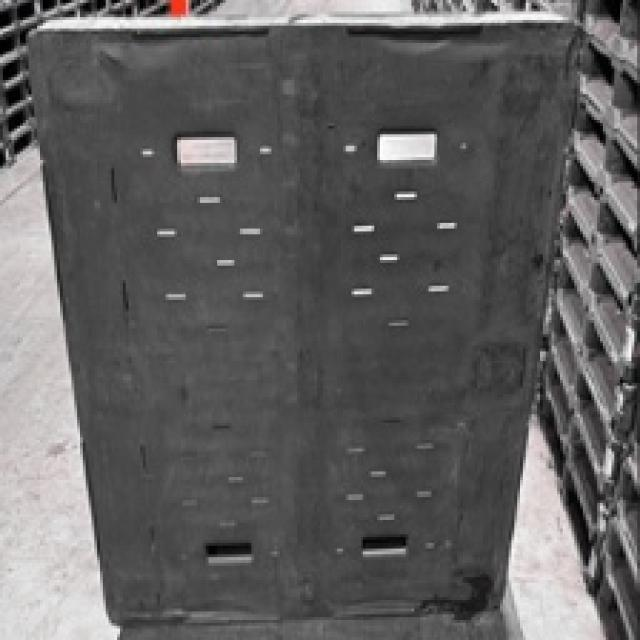igps: (21, 1, 590, 634)
